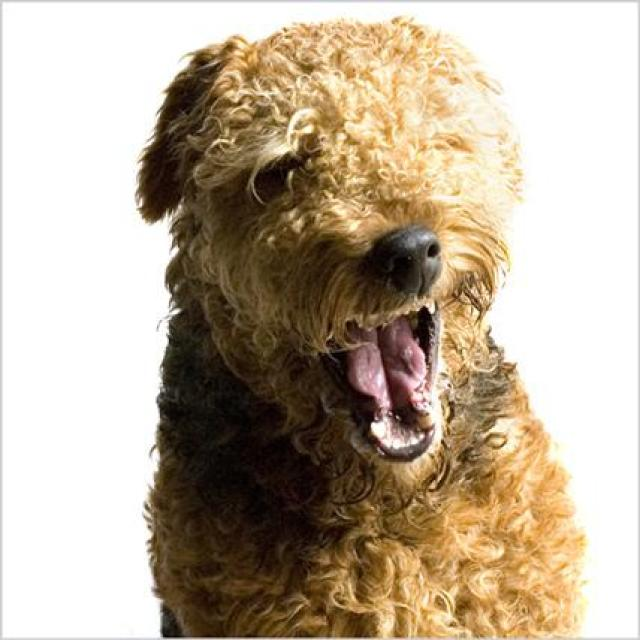airedale: (133, 16, 588, 637)
